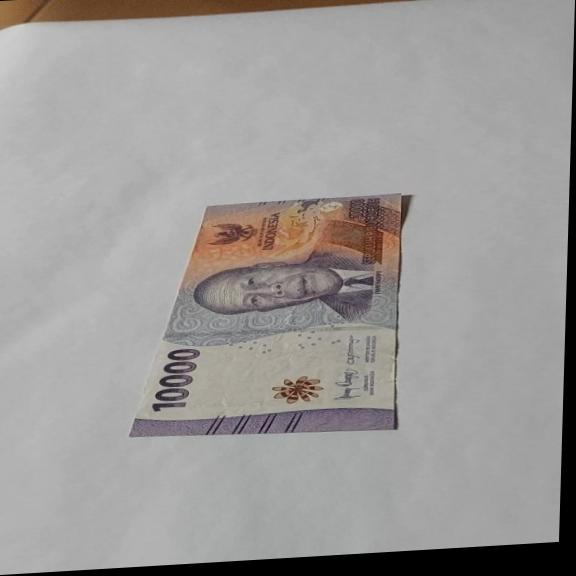Kertas: (127, 191, 408, 445)
